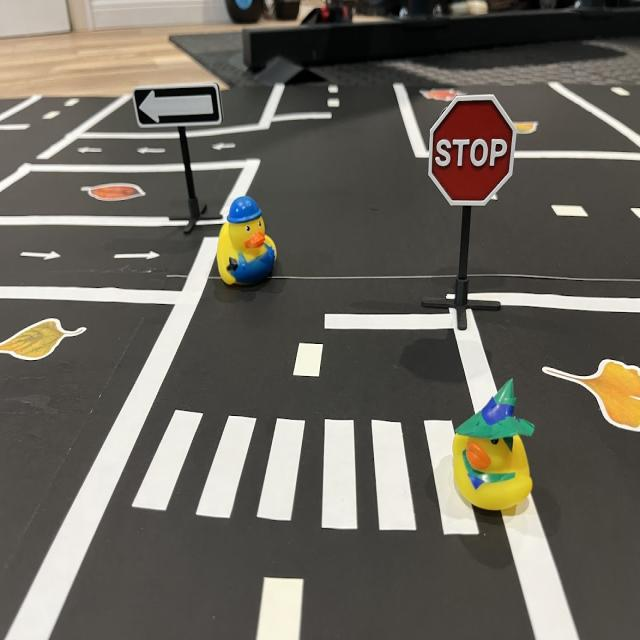duck_regular: (453, 384, 534, 517)
duck_specialty: (217, 197, 278, 288)
road_crosswalk: (125, 404, 488, 541)
road_oneway: (112, 244, 167, 270), (18, 240, 67, 267), (134, 142, 173, 163), (75, 139, 109, 158), (211, 138, 241, 158)
sign_oneway_left: (132, 85, 223, 133)
sign_stop: (426, 96, 518, 211)
